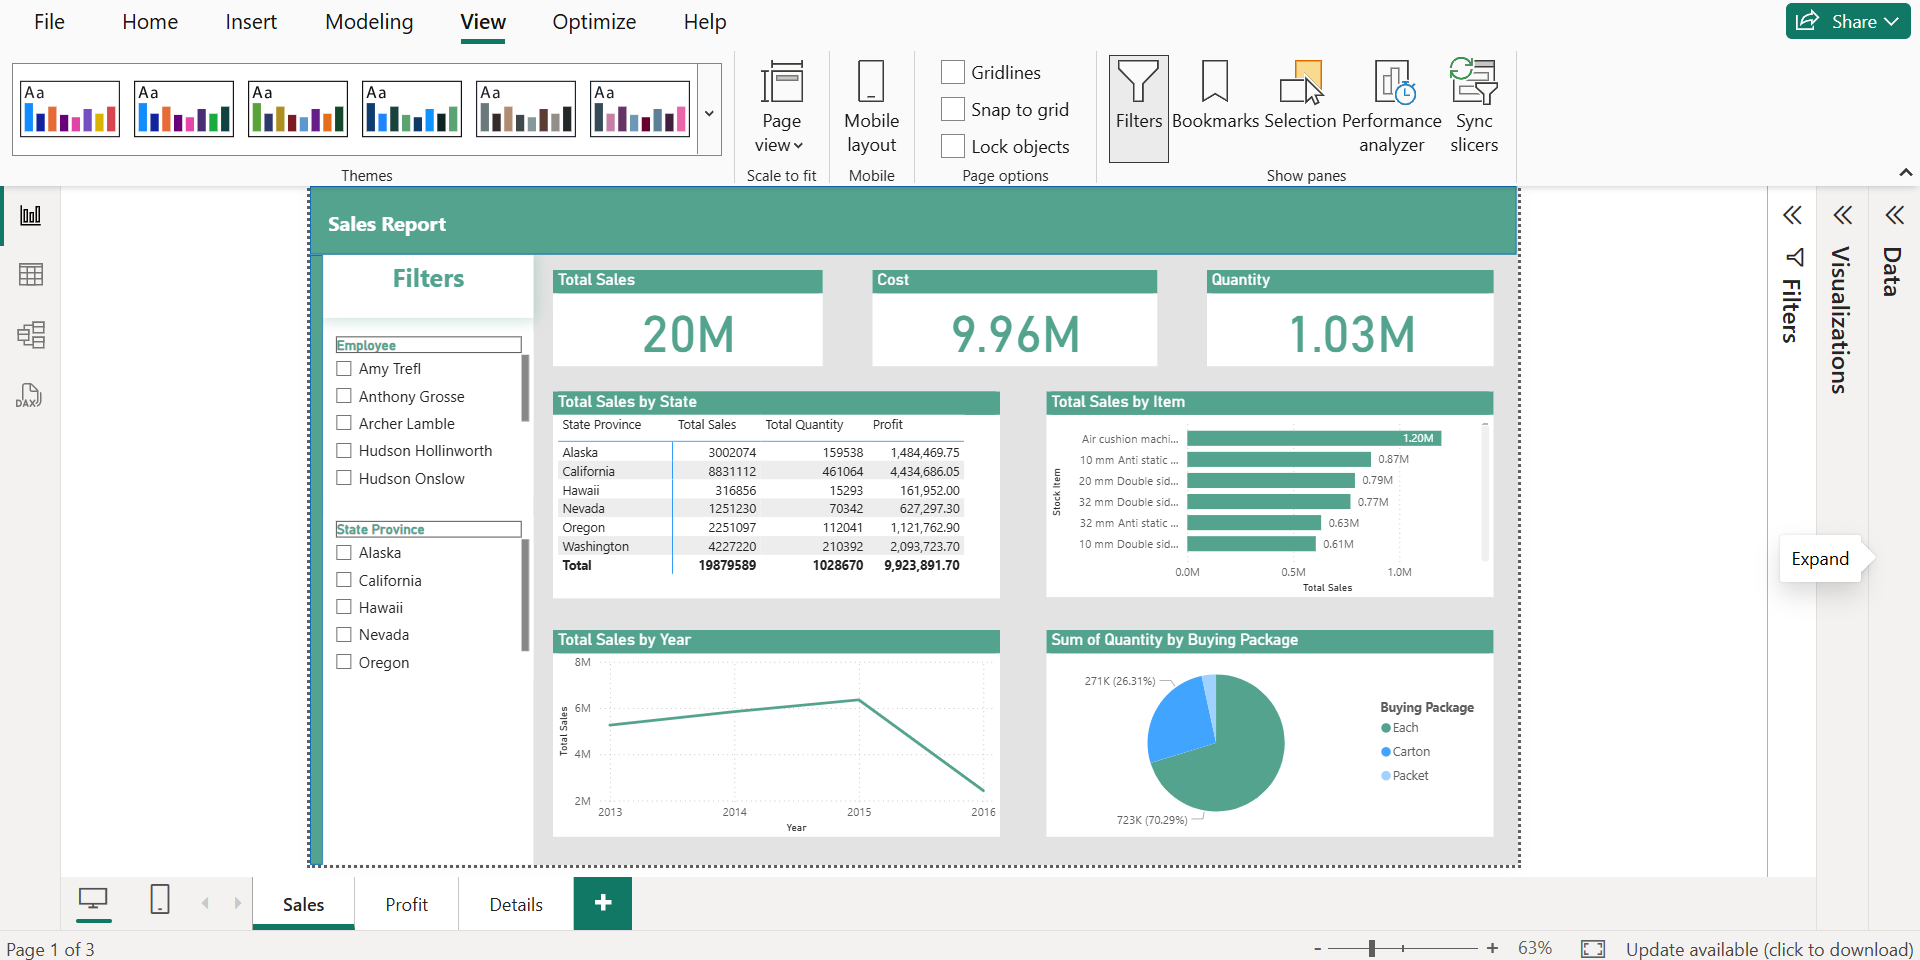

The page's visual inventory and layout, read from the dashboard file:
{"tool":"powerbi","page":{"name":"Sales","canvas":[1280,720],"ordinal":0},"visuals":[{"type":"shape","box":[0,0,1279.5,72.7],"z":0},{"type":"shape","box":[0,72.7,13.6,646.6],"z":1000},{"type":"shape","box":[13.6,72.7,222.6,646.6],"z":2000},{"type":"textbox","box":[14.3,19.1,283.1,39.8],"z":3000},{"type":"card","title":"Total Sales","fields":{"Values":["Sum(FactSale.Total Excluding Tax)"]},"box":[257.7,89.1,286.3,101.8],"z":4000},{"type":"card","title":"Quantity","fields":{"Values":["Sum(FactSale.Quantity)"]},"box":[951.2,89.1,303.8,101.8],"z":5000},{"type":"card","title":"Cost","fields":{"Values":["Sum(FactSale.Cost)"]},"box":[596.5,89.1,302.2,101.8],"z":6000},{"type":"lineChart","fields":{"Category":["DimDate.Date.Variation.Date Hierarchy.Year","DimDate.Date.Variation.Date Hierarchy.Quarter","DimDate.Date.Variation.Date Hierarchy.Month","DimDate.Date.Variation.Date Hierarchy.Day"],"Y":["Sum(FactSale.Total Excluding Tax)"]},"box":[257.7,470.8,474,219.5],"z":7000},{"type":"barChart","title":"Total Sales by Item","fields":{"Y":["Sum(FactSale.Total Excluding Tax)"],"Category":["DimStockItem.Stock Item"]},"box":[781,217.9,474,217.9],"z":8000},{"type":"pivotTable","title":"Total Sales by State","fields":{"Values":["Sum(FactSale.Total Excluding Tax)","Sum(FactSale.Quantity)","Sum(FactSale.Profit)"],"Rows":["DimCity.State Province"]},"box":[257.7,217.9,474,219.5],"z":9000},{"type":"slicer","fields":{"Values":["DimEmployee.Employee"]},"box":[14.3,140,222.7,81.1],"z":10000},{"type":"textbox","box":[14.3,73.2,222.7,66.8],"z":11000},{"type":"slicer","fields":{"Values":["DimCity.State Province"]},"box":[14.3,217.9,222.7,87.5],"z":12000},{"type":"pieChart","fields":{"Category":["DimStockItem.Buying Package"],"Y":["Sum(FactSale.Quantity)"]},"box":[781,470.8,474,219.5],"z":13000},{"type":"slicer","fields":{"Values":["DimCity.City"]},"box":[14.3,305.4,222.7,87.5],"z":14000},{"type":"slicer","fields":{"Values":["DimCustomers.Buying Group"]},"box":[14.3,396.1,222.7,87.5],"z":15000},{"type":"pageNavigator","box":[478.1,11.3,640.6,49.1],"z":15001}]}

Visuals, with their boxes on the page's 1280x720 design canvas (x1, y1, x2, y2). These are canvas units, not pixel positions in the 1920x960 screenshot, which may show the page scaled, cropped or inside an application window:
shape: 0:0:1280:73
shape: 0:73:14:719
shape: 14:73:236:719
textbox: 14:19:297:59
"Total Sales" card: 258:89:544:191
"Quantity" card: 951:89:1255:191
"Cost" card: 596:89:899:191
lineChart - DimDate.Date.Variation.Date Hierarchy.Year x DimDate.Date.Variation.Date Hierarchy.Quarter: 258:471:732:690
"Total Sales by Item" barChart: 781:218:1255:436
"Total Sales by State" pivotTable: 258:218:732:437
slicer - DimEmployee.Employee: 14:140:237:221
textbox: 14:73:237:140
slicer - DimCity.State Province: 14:218:237:305
pieChart - DimStockItem.Buying Package x Sum(FactSale.Quantity): 781:471:1255:690
slicer - DimCity.City: 14:305:237:393
slicer - DimCustomers.Buying Group: 14:396:237:484
pageNavigator: 478:11:1119:60
